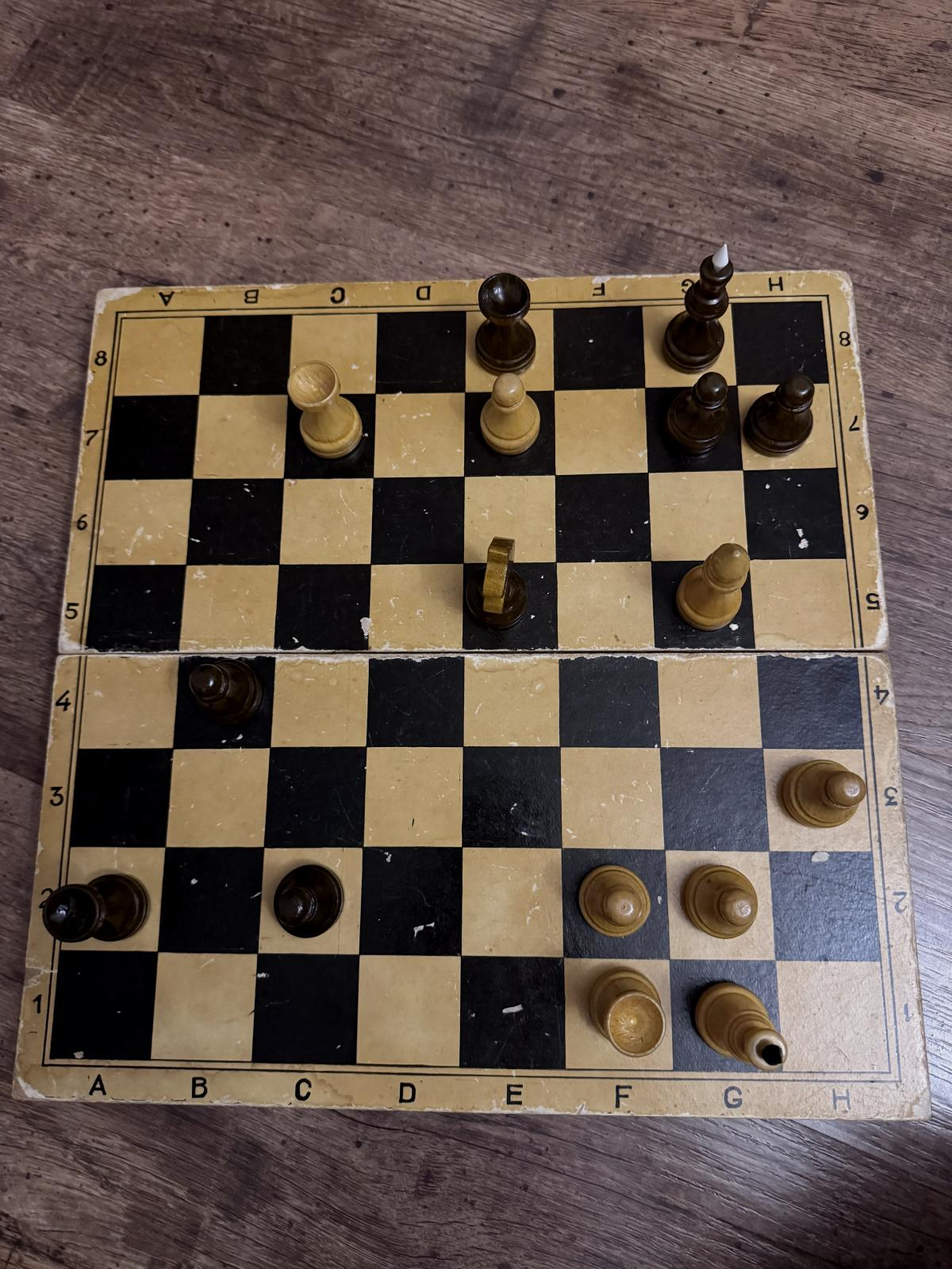Chess-Board: (50, 301, 891, 1072)
